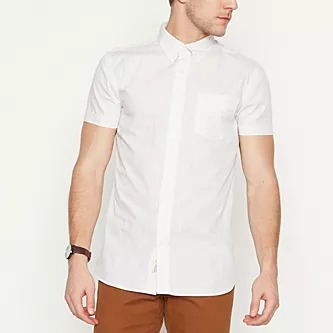S_shirt: (83, 21, 277, 295)
